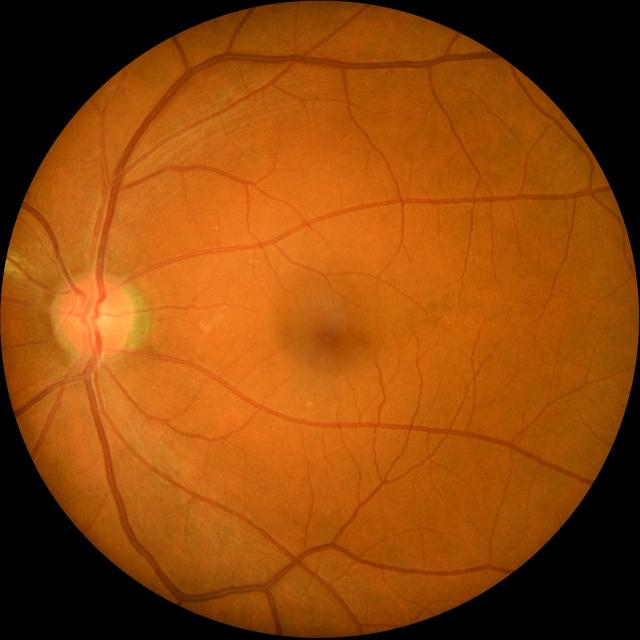OC: (81, 298, 111, 331)
OD: (56, 274, 130, 353)
